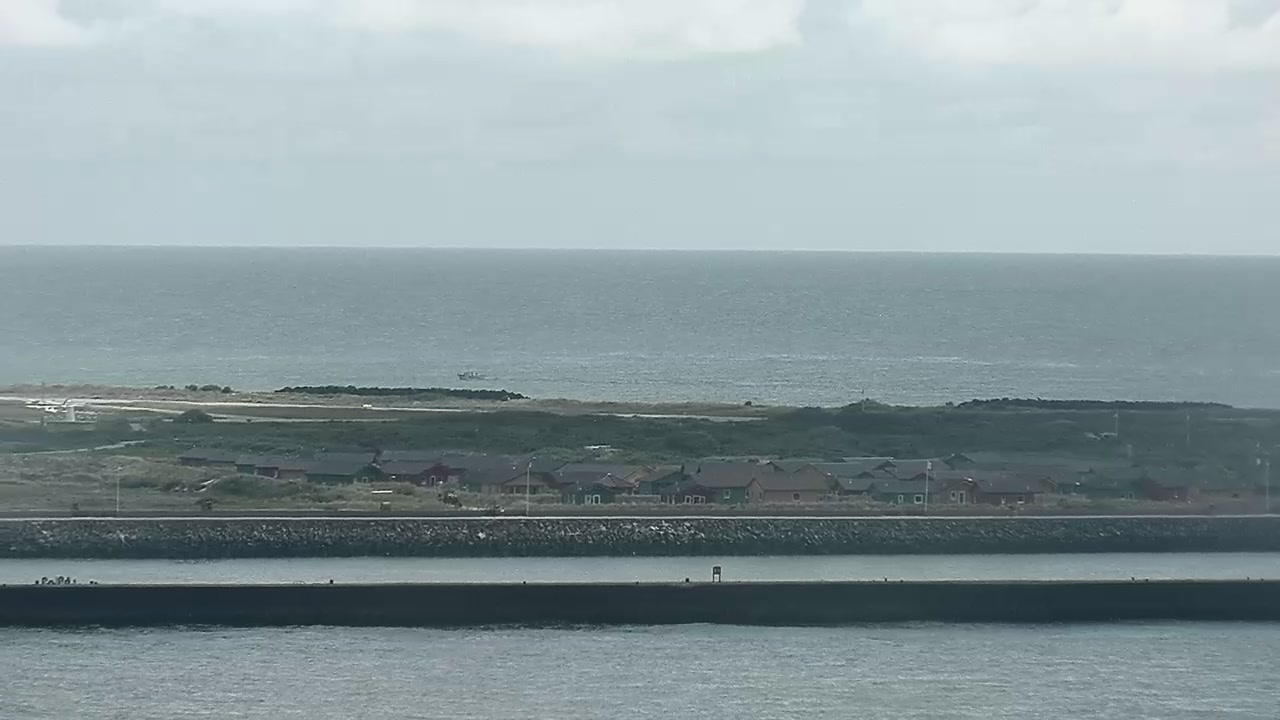sea: (456, 370, 484, 381)
